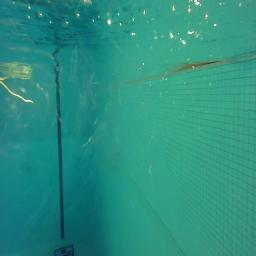Side: (52, 243, 76, 256)
